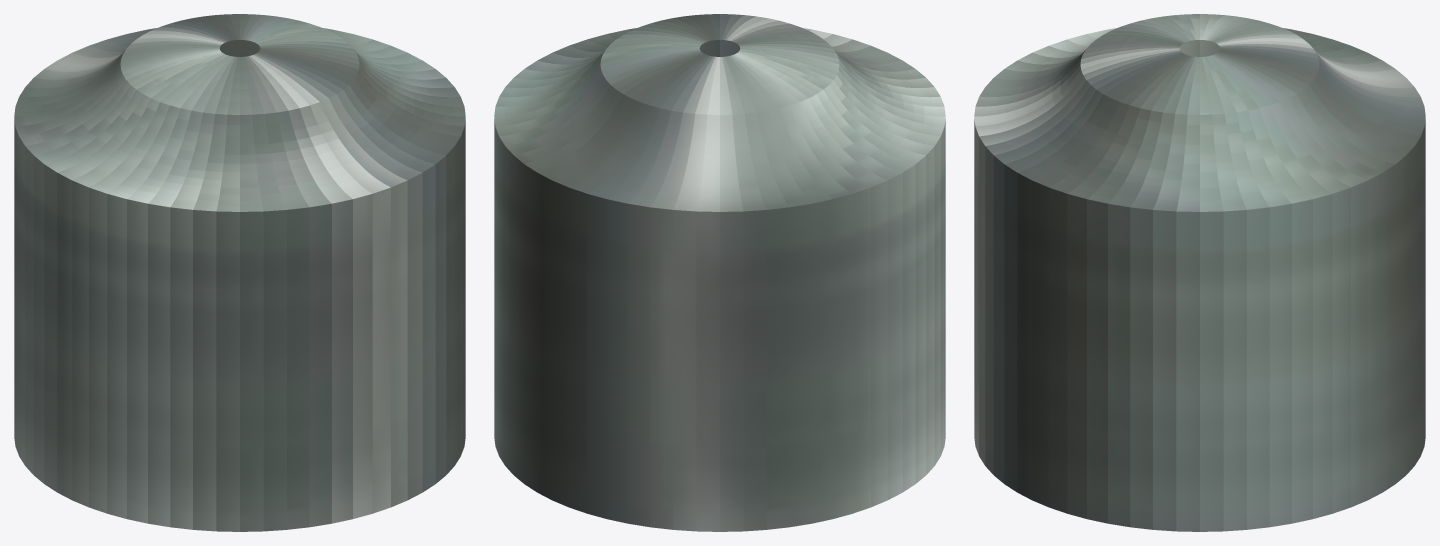
Rendered from original-10.obj.
3 renders of one model, left to right at view 1: azimuth 30°, elevation 25°; view 2: azimuth 150°, elevation 25°; view 3: azimuth 270°, elevation 25°, orthographic.
Visible parts, largest first — view 1: Group10/mesh87/mesh87-geometry#mesh87-geometry; view 2: Group10/mesh87/mesh87-geometry#mesh87-geometry; view 3: Group10/mesh87/mesh87-geometry#mesh87-geometry.
Part boxes in pixels (box(x1,y1,x2,y2)): Group10/mesh87/mesh87-geometry#mesh87-geometry: box(14, 14, 465, 531); Group10/mesh87/mesh87-geometry#mesh87-geometry: box(494, 14, 945, 531); Group10/mesh87/mesh87-geometry#mesh87-geometry: box(974, 14, 1425, 531).
Bounding box in the file's own units: 0.1615 × 0.1532 × 0.1615.
